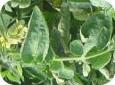Tomato mold leaf: (76, 10, 111, 63), (22, 5, 50, 65)
